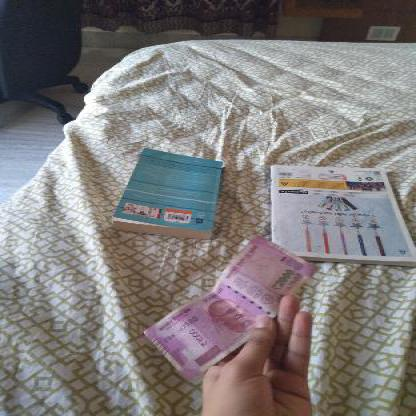New2000Front: (145, 235, 323, 379)
